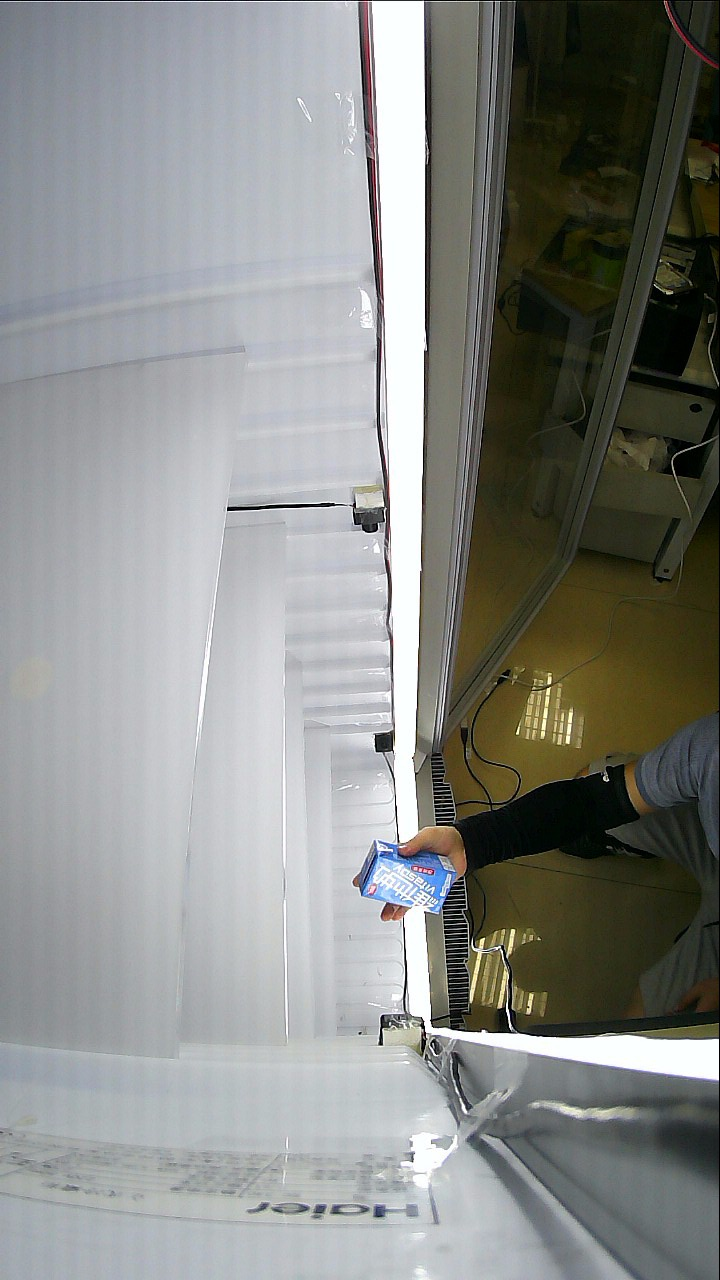VitaSoyOriginal: (357, 817, 480, 924)
